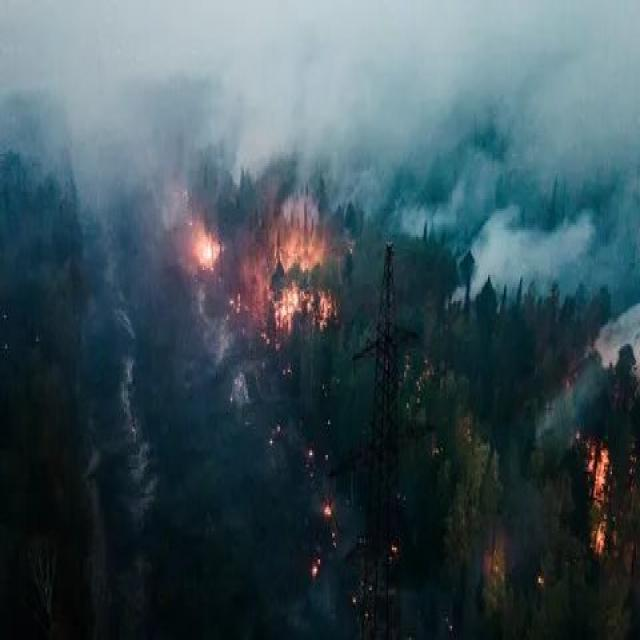Fire: (176, 204, 347, 350), (582, 413, 640, 589)
